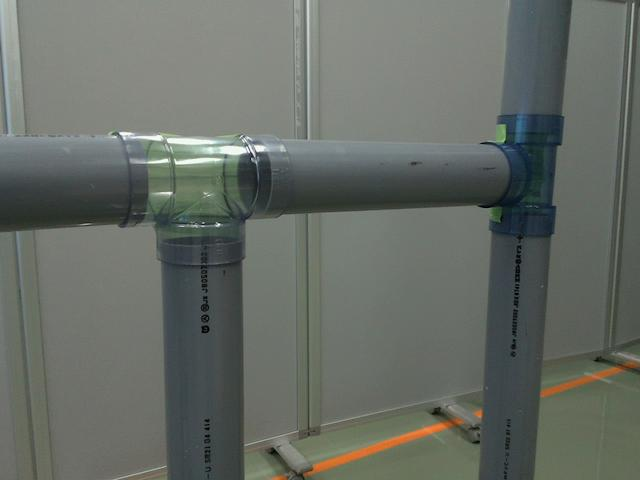junction: (113, 128, 288, 264), (476, 114, 566, 236)
